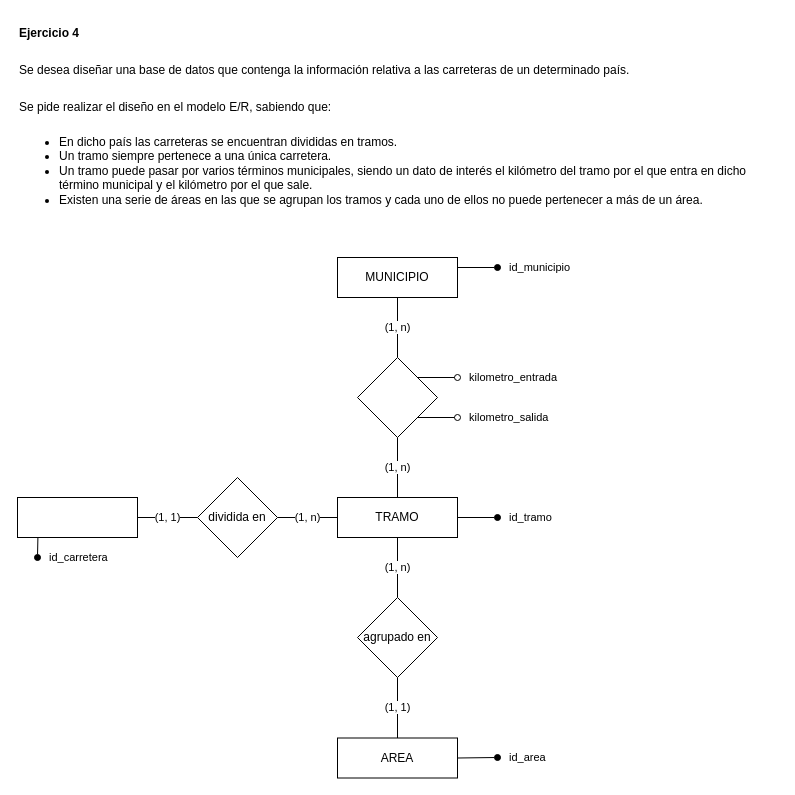
Some shapes in this 795 by 795 pixel diagram are drawn without their labels. Each missing label, with the box of its shape:
CARRETERA: (16, 496, 138, 538)
pasa por: (356, 356, 438, 438)
